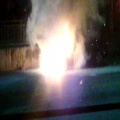fire: (39, 23, 73, 79)
